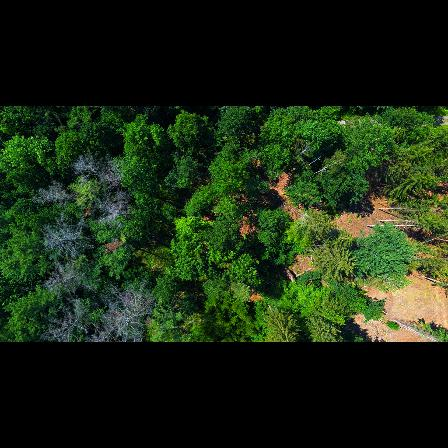Dead: (41, 298, 102, 341), (110, 287, 156, 340), (77, 154, 131, 193), (42, 219, 97, 253), (28, 180, 79, 210), (96, 196, 136, 228)
